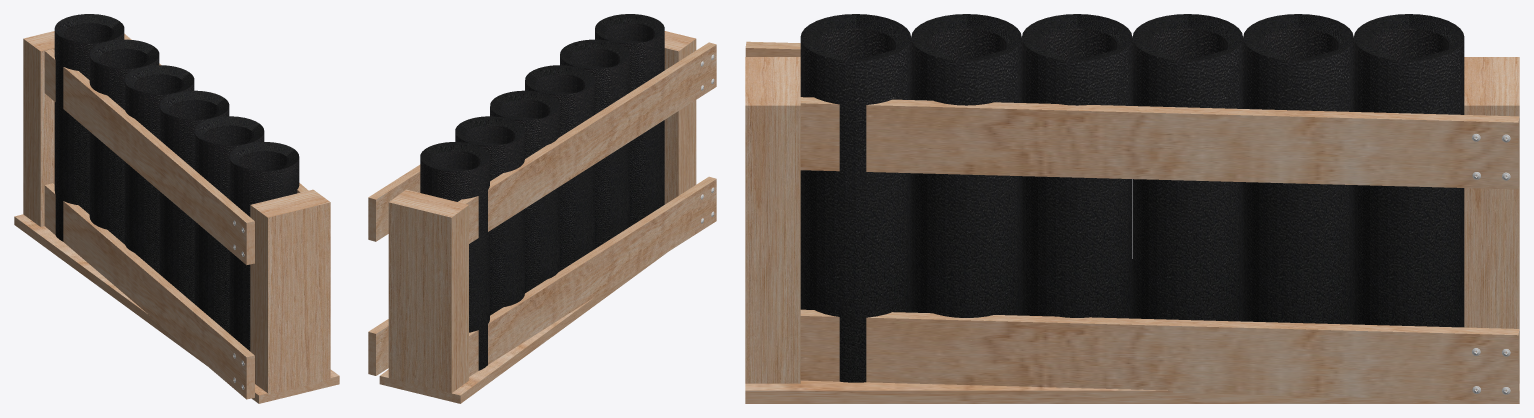
File: PVC3inchStraight6RackPart.fbx
3 renders of one model, left to right at view 1: azimuth 30°, elevation 25°; view 2: azimuth 150°, elevation 25°; view 3: azimuth 270°, elevation 25°, orthographic. The views are drawn at different scales.
Visible parts, largest first — view 1: Cube.006, Cube.004, Cube.002, Cylinder.003, Cylinder.006, Cylinder.005, Cylinder.002, Cylinder.001, Cylinder.004, Cube.005, Cube; view 2: Cube.005, Cube.004, Cube.002, Cylinder.003, Cylinder.004, Cylinder.006, Cylinder.005, Cylinder.002, Cylinder.001, Cube.006, Cube, Cube.003 (+1 smaller); view 3: Cube.003, Cube.001, Cylinder.004, Cylinder.003, Cylinder.001, Cylinder.002, Cylinder.005, Cylinder.006, Cube.006, Cube.005, Cube, Cube.004.
Boxes of the visible parts, bbox=[...] form: Cube.006: bbox=[250, 189, 330, 394]; Cube.004: bbox=[44, 49, 254, 265]; Cube.002: bbox=[44, 183, 254, 399]; Cylinder.003: bbox=[54, 14, 124, 241]; Cylinder.006: bbox=[194, 116, 264, 333]; Cylinder.005: bbox=[159, 90, 229, 303]; Cylinder.002: bbox=[124, 65, 194, 273]; Cylinder.001: bbox=[89, 39, 159, 243]; Cylinder.004: bbox=[229, 142, 299, 351]; Cube.005: bbox=[23, 31, 54, 226]; Cube: bbox=[14, 214, 339, 403]; Cube.005: bbox=[388, 189, 468, 393]; Cube.004: bbox=[458, 42, 716, 243]; Cube.002: bbox=[469, 176, 716, 376]; Cylinder.003: bbox=[420, 142, 489, 370]; Cylinder.004: bbox=[595, 14, 664, 226]; Cylinder.006: bbox=[560, 39, 629, 248]; Cylinder.005: bbox=[525, 65, 594, 270]; Cylinder.002: bbox=[490, 90, 559, 293]; Cylinder.001: bbox=[455, 116, 524, 315]; Cube.006: bbox=[664, 31, 696, 204]; Cube: bbox=[379, 253, 665, 403]; Cube.003: bbox=[368, 164, 420, 241]; Cube.003: bbox=[800, 97, 1519, 189]; Cube.001: bbox=[800, 309, 1519, 401]; Cylinder.004: bbox=[800, 14, 911, 382]; Cylinder.003: bbox=[1353, 14, 1464, 327]; Cylinder.001: bbox=[1243, 14, 1353, 324]; Cylinder.002: bbox=[1132, 14, 1242, 321]; Cylinder.005: bbox=[1022, 14, 1132, 318]; Cylinder.006: bbox=[911, 14, 1021, 317]; Cube.006: bbox=[745, 57, 800, 383]; Cube.005: bbox=[1464, 57, 1519, 383]; Cube: bbox=[745, 380, 1519, 403]; Cube.004: bbox=[745, 41, 800, 56].
Size of the model in its own units: 0.2622 by 0.5017 by 1.05.
45 materials, 13 textured.
